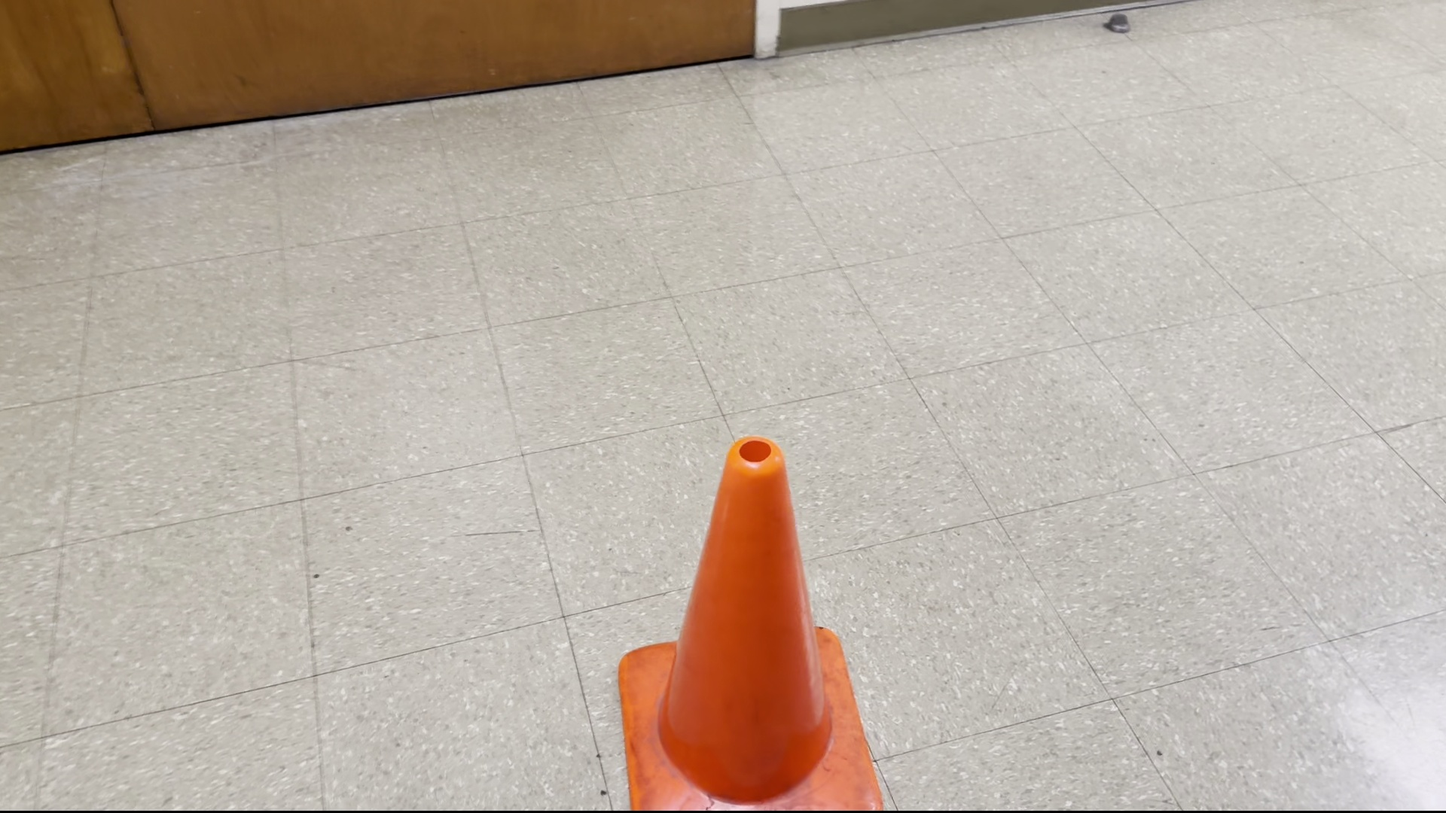traffic_cone: (618, 435, 884, 811), (656, 435, 835, 804)
